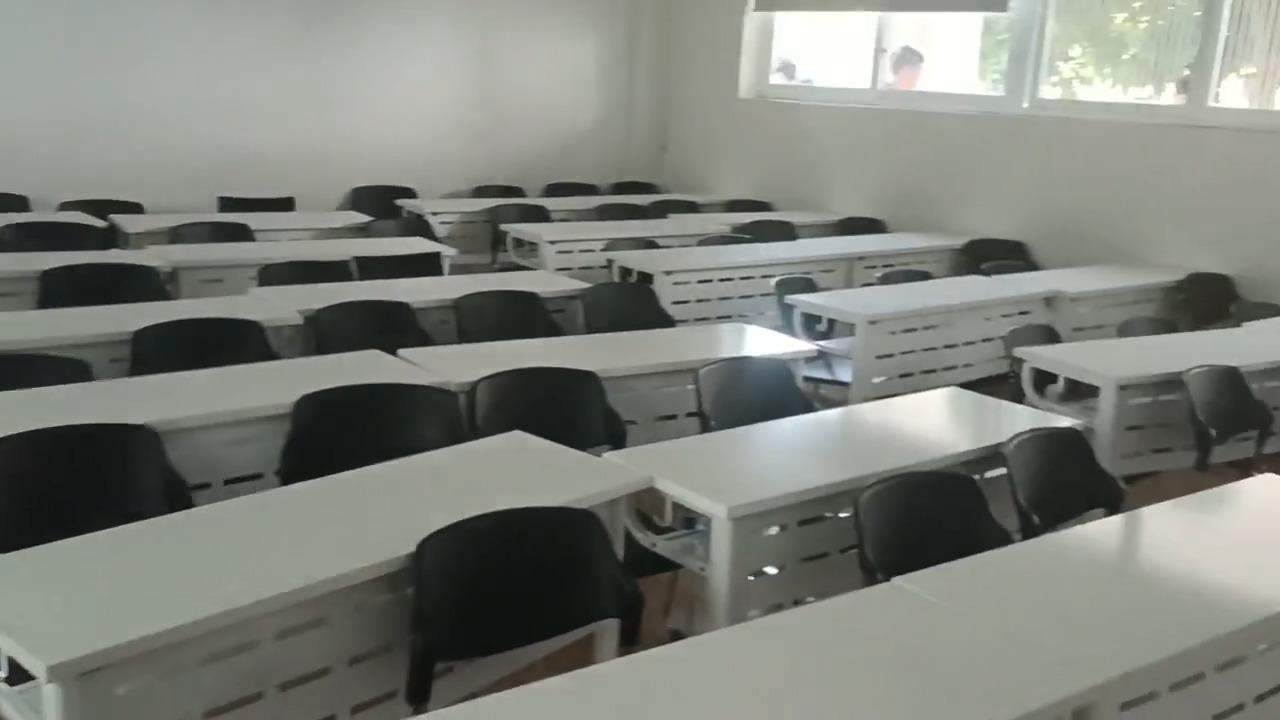chair: (412, 509, 636, 717), (4, 424, 190, 553), (287, 379, 460, 479), (855, 474, 1016, 577), (992, 425, 1131, 532), (465, 365, 631, 450), (1175, 364, 1278, 481), (129, 315, 280, 374), (699, 360, 812, 431), (305, 300, 437, 357), (40, 260, 171, 306), (455, 288, 562, 341), (581, 285, 677, 333), (1172, 269, 1239, 325), (0, 222, 123, 251), (4, 351, 87, 388), (354, 249, 445, 279), (250, 259, 352, 285), (345, 183, 413, 220), (1005, 326, 1067, 363), (55, 195, 144, 217), (965, 234, 1028, 264), (173, 220, 251, 244), (361, 219, 437, 242), (218, 196, 301, 216), (735, 220, 799, 245), (1226, 297, 1279, 327), (1122, 314, 1181, 339), (645, 198, 699, 223), (490, 203, 548, 226), (875, 269, 932, 290), (768, 277, 822, 299), (979, 259, 1038, 279), (836, 215, 887, 234), (608, 236, 660, 253), (478, 184, 527, 202), (700, 234, 748, 252), (617, 178, 660, 197), (550, 182, 597, 199), (594, 204, 647, 219), (723, 199, 772, 214), (0, 193, 29, 215)
table: (0, 434, 651, 719), (610, 387, 1084, 627), (885, 473, 1279, 719), (414, 586, 1099, 716), (0, 347, 456, 501), (405, 323, 818, 446), (1010, 330, 1279, 474), (786, 277, 1066, 401), (138, 233, 458, 298), (607, 237, 848, 323), (252, 268, 590, 312), (0, 293, 299, 342), (993, 262, 1202, 331), (509, 219, 729, 274), (816, 229, 972, 285), (107, 212, 376, 231), (394, 197, 639, 216), (2, 248, 172, 270), (695, 209, 850, 228), (589, 186, 741, 205), (1, 209, 105, 229)
